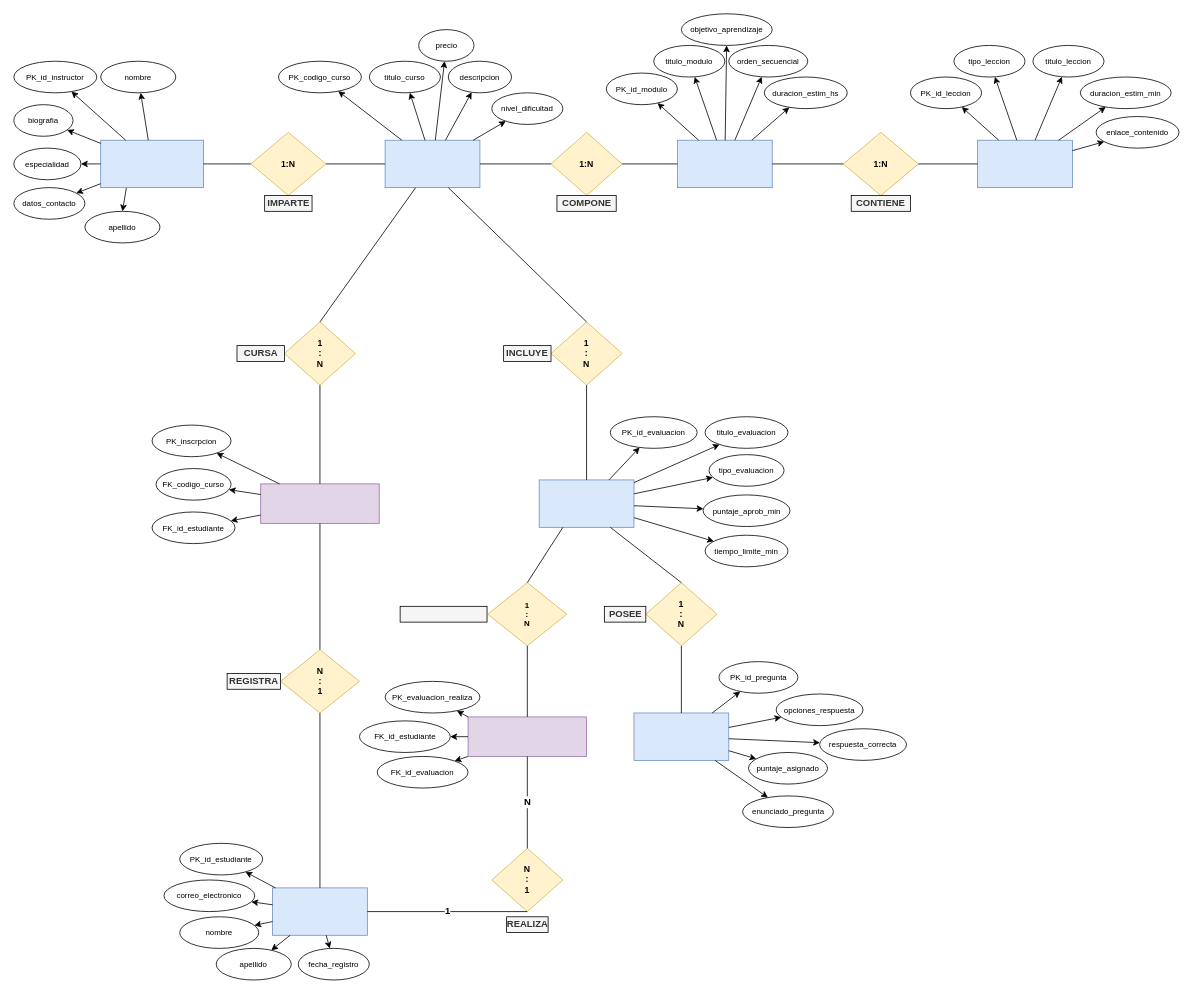
Image size: 1193x994. Some labels were removed from this diagram. The box of each missing label's shape, as (x1, y1, x2, y2) in pixels:
CORRESPONDE: (399, 606, 487, 622)
CURSO: (384, 139, 480, 188)
ESTUDIANTE: (272, 887, 367, 935)
EVALUACION: (538, 479, 634, 527)
EVALUACION_REALIZA: (467, 716, 587, 756)
INSCRIPCION_CURSO_ ESTUDIANTE: (260, 483, 379, 523)
INSTRUCTOR: (100, 139, 203, 188)
LECCION: (977, 139, 1072, 188)
MODULO: (677, 139, 772, 188)
PREGUNTA: (633, 712, 729, 760)
